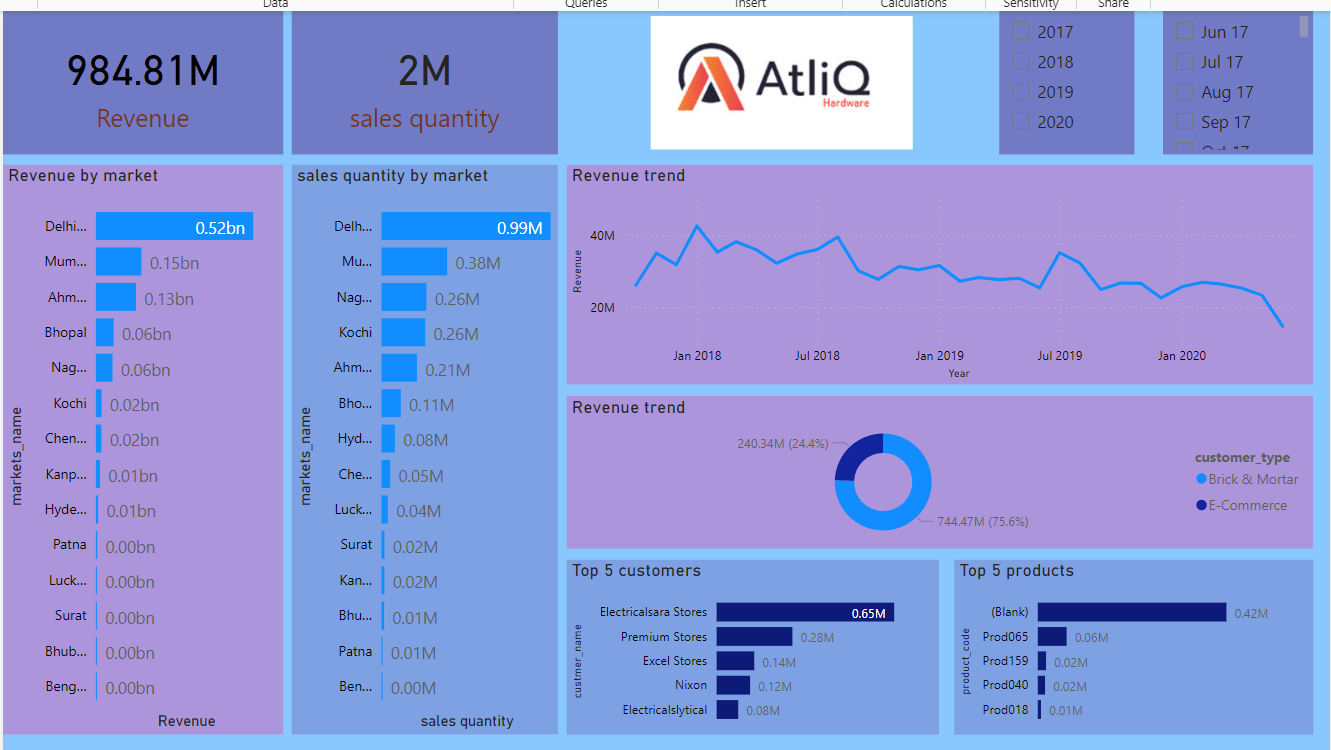

The page's visual inventory and layout, read from the dashboard file:
{"tool":"powerbi","page":{"name":"dashboeard ","canvas":[1280,720],"ordinal":1},"visuals":[{"type":"card","fields":{"Values":["Base_measures.Revenue"]},"box":[0,0,270.2,138.7],"z":0},{"type":"card","fields":{"Values":["Base_measures.sales_quantity"]},"box":[278.6,0,256.9,138.7],"z":1000},{"type":"barChart","title":"Revenue by market ","fields":{"Category":["sales markets.markets_name"],"Y":["Base_measures.Revenue"]},"box":[0,148.3,270.2,549.9],"z":2000},{"type":"barChart","title":"sales quantity by market ","fields":{"Category":["sales markets.markets_name"],"Y":["Base_measures.sales quantity"]},"box":[278.6,148.3,256.9,549.9],"z":3000},{"type":"slicer","fields":{"Values":["sales date.cy_date"]},"box":[1119.2,0,144.7,138.7],"z":4000},{"type":"slicer","fields":{"Values":["sales date.year"]},"box":[961.2,0,130.3,138.7],"z":5000},{"type":"barChart","title":"Top 5 customers","fields":{"Y":["Base_measures.sales quantity"],"Category":["sales customers.custmer_name"]},"box":[543.9,529.4,359.4,168.8],"z":6000},{"type":"barChart","title":"Top 5 products","fields":{"Y":["Base_measures.sales quantity"],"Category":["sales products.product_code"]},"box":[917.8,529.4,346.1,168.8],"z":7000},{"type":"lineChart","title":"Revenue trend","fields":{"Y":["Base_measures.Revenue"],"Category":["sales date.cy_date.Variation.Date Hierarchy.Year","sales date.cy_date.Variation.Date Hierarchy.Quarter","sales date.cy_date.Variation.Date Hierarchy.Month","sales date.cy_date.Variation.Date Hierarchy.Day"]},"box":[543.9,148.3,720,212.3],"z":8000},{"type":"image","box":[584.9,0,332.9,138.7],"z":9000},{"type":"donutChart","title":"Revenue trend","fields":{"Category":["sales customers.customer_type"],"Y":["Base_measures.Revenue"]},"box":[543.9,371.5,720,147.1],"z":10000}]}

Visuals, with their boxes in screenshot pixels (x1, y1, x2, y2):
card - Base_measures.Revenue: <region>0, 7, 277, 149</region>
card - Base_measures.sales_quantity: <region>286, 7, 549, 149</region>
"Revenue by market " barChart: <region>0, 159, 277, 723</region>
"sales quantity by market " barChart: <region>286, 159, 549, 723</region>
slicer - sales date.cy_date: <region>1148, 7, 1296, 149</region>
slicer - sales date.year: <region>986, 7, 1119, 149</region>
"Top 5 customers" barChart: <region>558, 550, 926, 723</region>
"Top 5 products" barChart: <region>941, 550, 1296, 723</region>
"Revenue trend" lineChart: <region>558, 159, 1296, 377</region>
image: <region>600, 7, 941, 149</region>
"Revenue trend" donutChart: <region>558, 388, 1296, 539</region>
